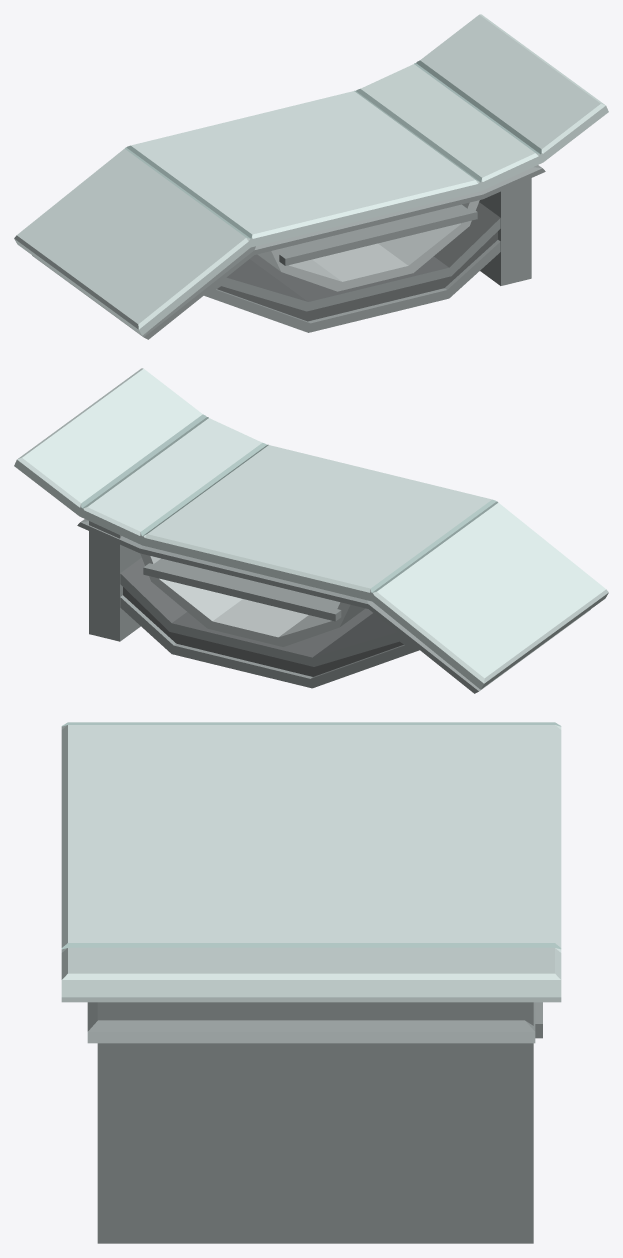
The model's file is alien_bed_0506.fbx.
3 views of the same model, one above another, from view 1: azimuth 30°, elevation 25°; view 2: azimuth 150°, elevation 25°; view 3: azimuth 270°, elevation 25° (orthographic). The views are drawn at different scales.
Visible parts, largest first — view 1: bed; view 2: bed; view 3: bed.
Part boxes in pixels (box(x1,y1,x2,y2)): bed: box(14, 14, 608, 339); bed: box(14, 368, 608, 693); bed: box(61, 722, 561, 1243).
Bounding box in the file's own units: 277 × 93.07 × 127.
Materials: 1 (1 with a texture image).
